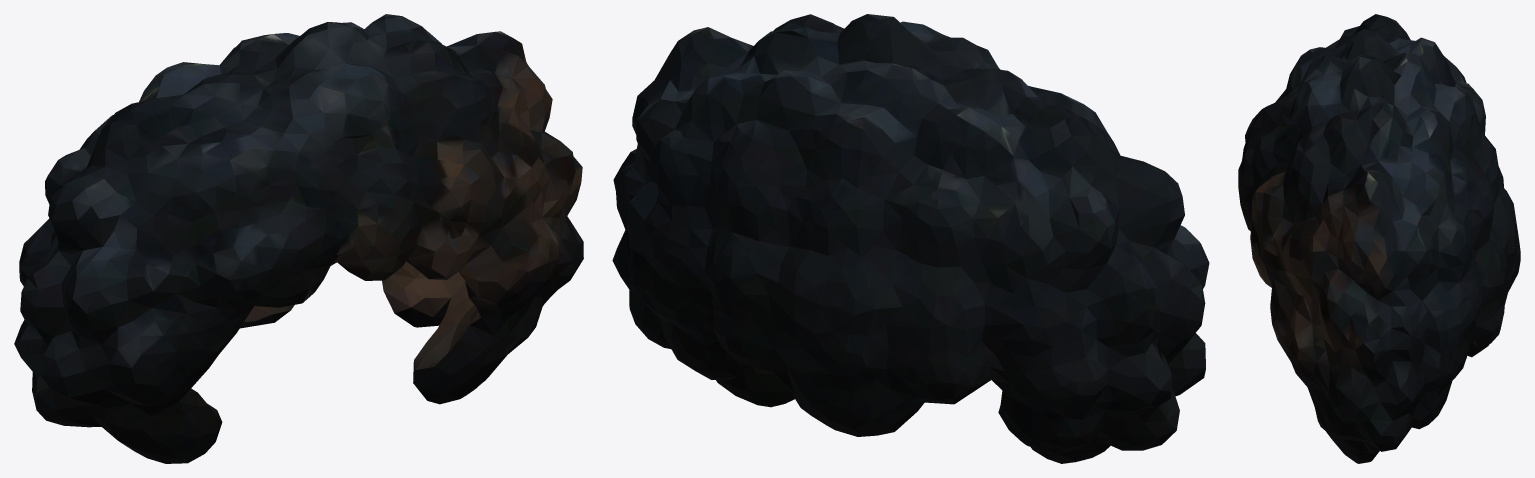
File: hairstyle_049.glb
The picture shows the model from 3 angles, left to right: view 1: azimuth 30°, elevation 25°; view 2: azimuth 150°, elevation 25°; view 3: azimuth 270°, elevation 25°; orthographic projection. The views are drawn at different scales.
Parts seen in each view (by area): view 1: geometry_0_049; view 2: geometry_0_049; view 3: geometry_0_049.
Part boxes in pixels (x1,y1,x2,y2): geometry_0_049: (14,14,583,463); geometry_0_049: (612,14,1209,463); geometry_0_049: (1238,14,1520,463).
Size of the model in its own units: 1.39 by 0.9552 by 0.6962.
1 material, 1 textured.
